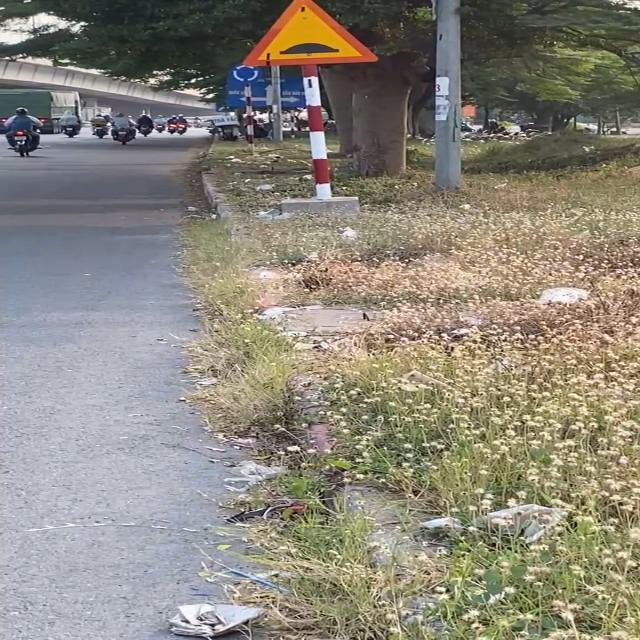221-duong-go-ghe: (240, 0, 378, 67)
303-noi-giao-nhau-chay-theo-vong-xuyen: (229, 63, 261, 83)
